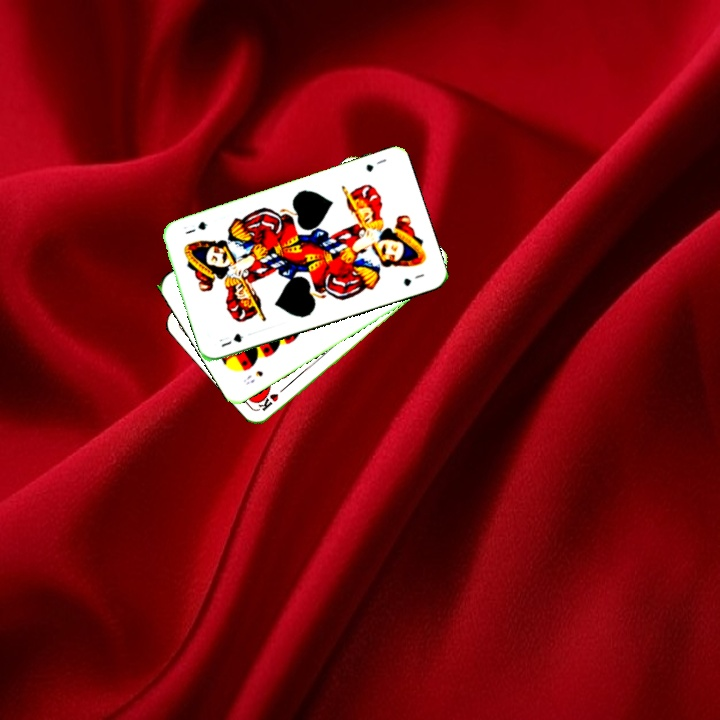GU: (217, 329, 246, 350), (362, 154, 389, 174)
HK: (255, 381, 290, 413)
S8: (239, 367, 266, 387)
